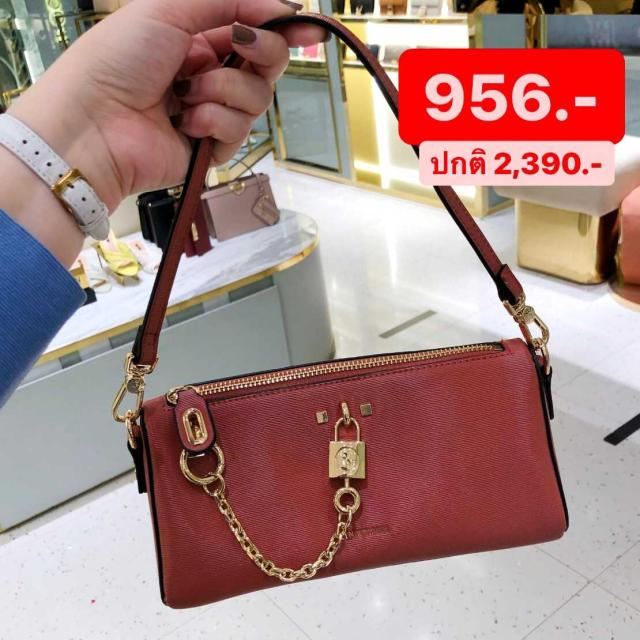Handbag: (108, 301, 564, 611)
